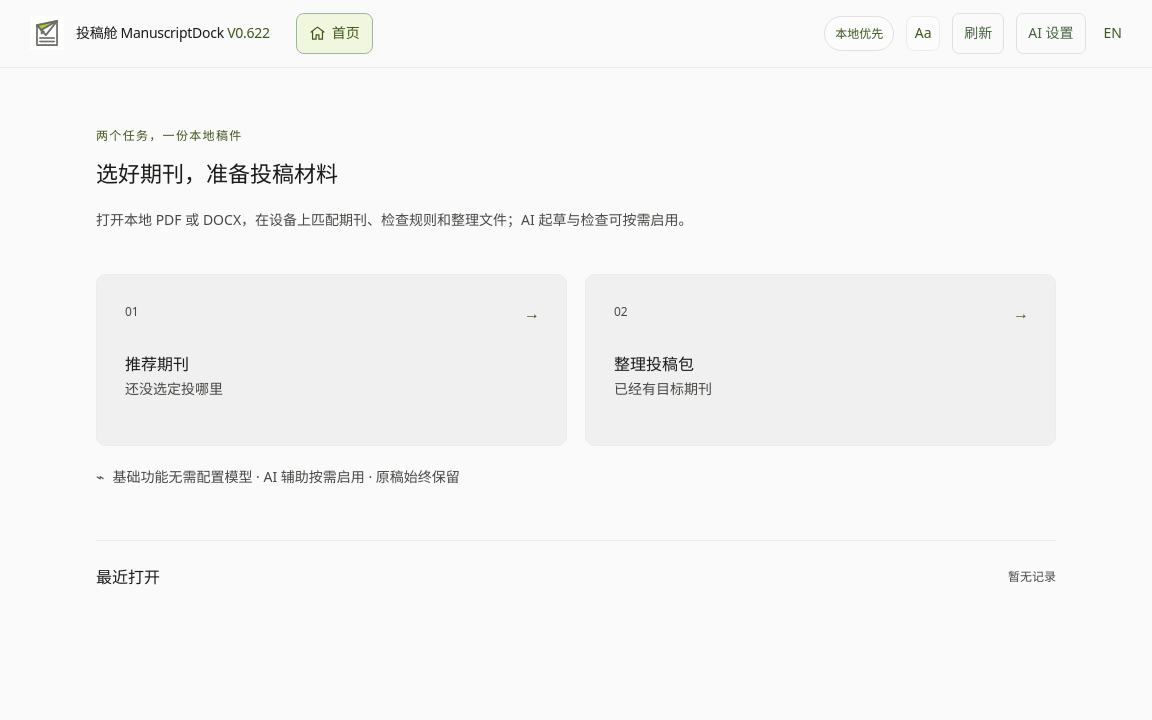
Scenario: shows two clear bilingual tasks and local processing boundary
This screenshot has width=1152, height=720.
Expected: the button "01 推荐期刊 还没选定投哪里 →" is shown, [96,274,567,446]
Expected: the button "02 整理投稿包 已经有目标期刊 →" is shown, [585,274,1056,446]
Click the button "EN": [1113, 34] box [1098,21,1128,46]
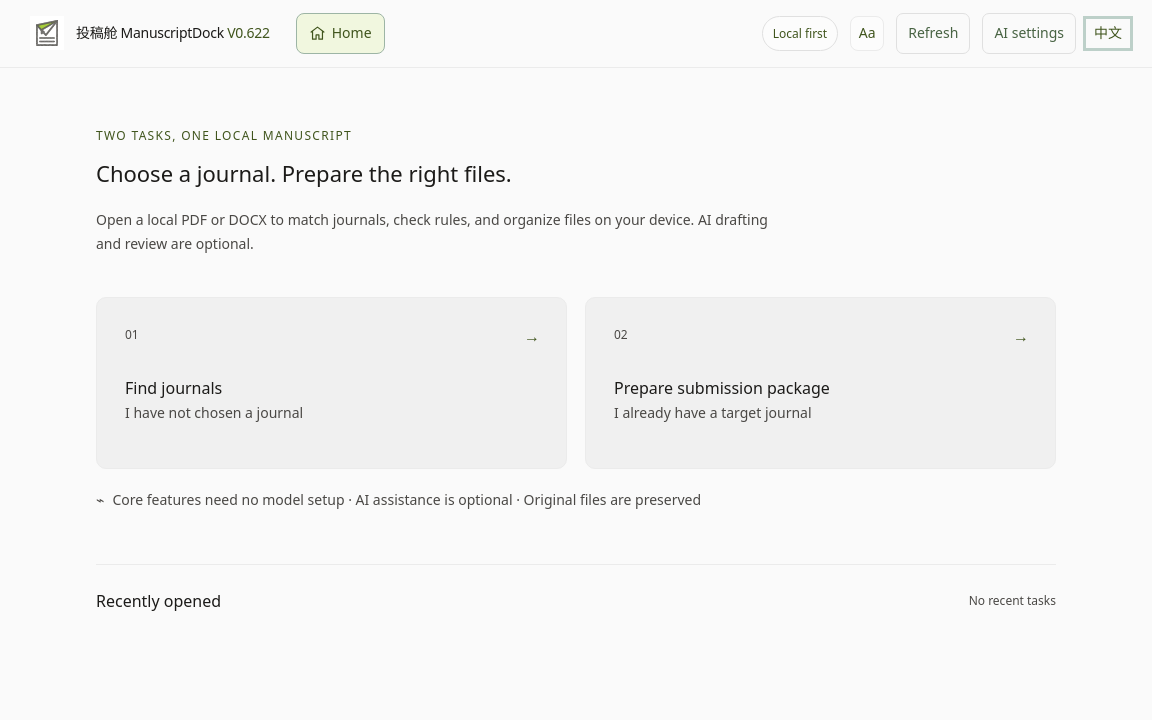
Now the button "01 Find journals I have not chosen a journal →" is shown, box [96,297,567,469]
Now the button "Prepare submission package" is shown, box [585,297,1056,469]
